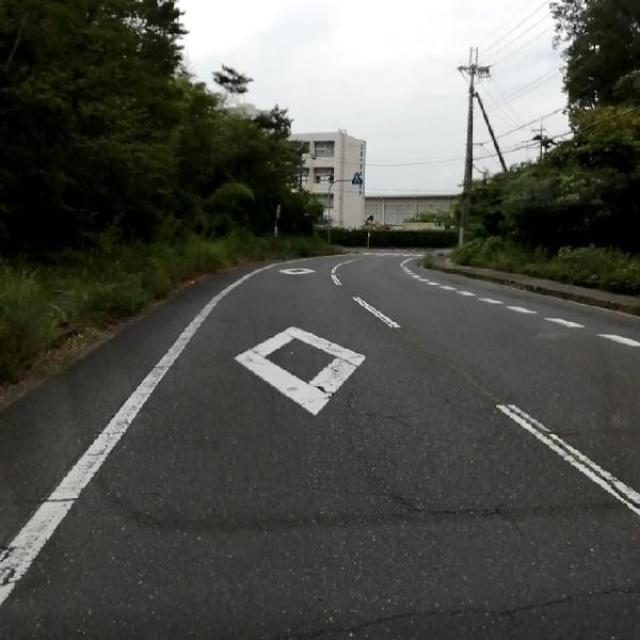Crack: (243, 269, 433, 565)
